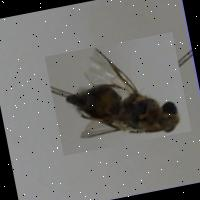Oriental-fruit-fly: (43, 31, 190, 155)
